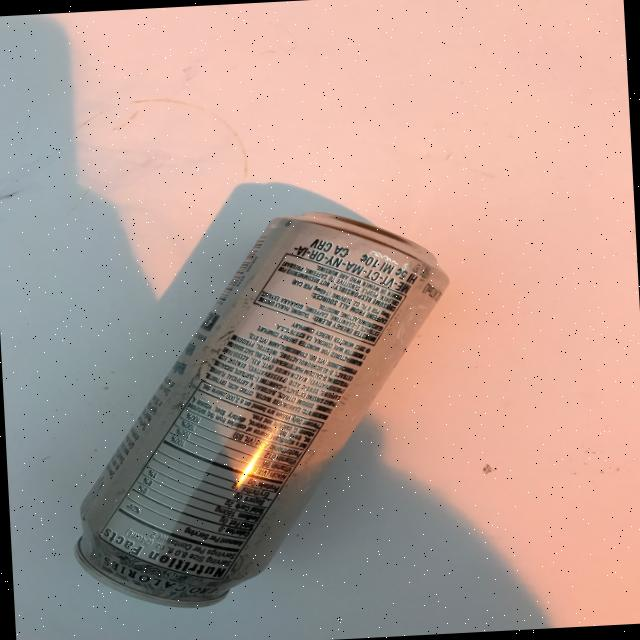metal: (56, 203, 466, 614)
